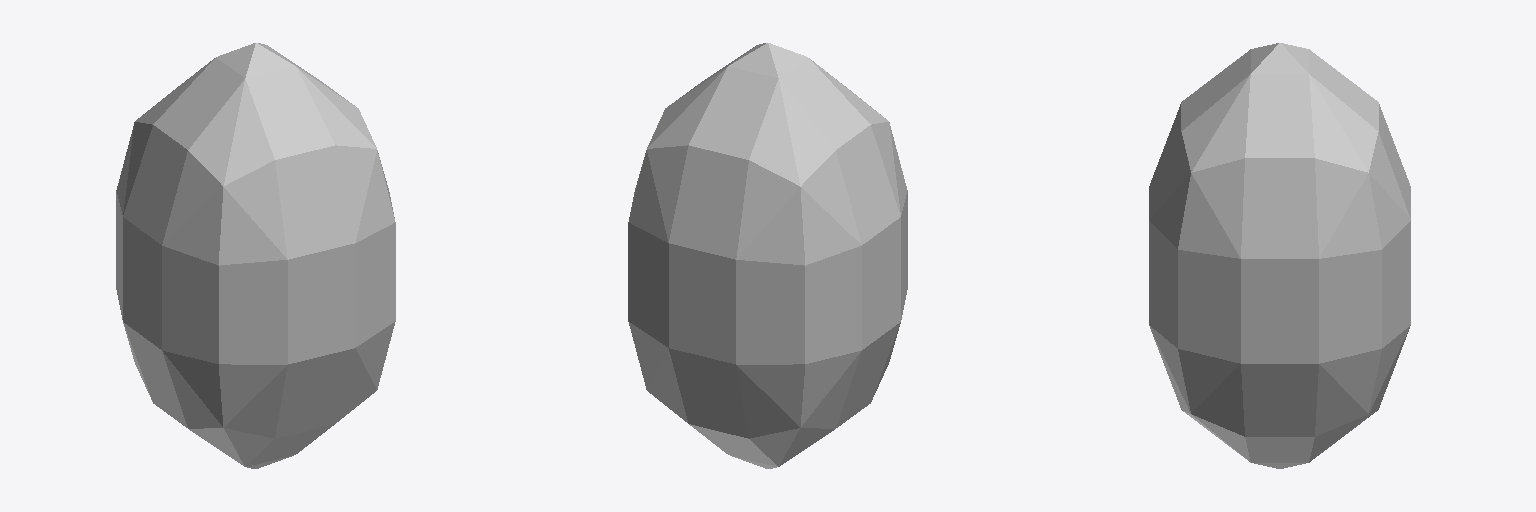
The model's file is teeth_smoothed_60.obj.
3 views of the same model, side by side, from view 1: azimuth 30°, elevation 25°; view 2: azimuth 150°, elevation 25°; view 3: azimuth 270°, elevation 25° (orthographic).
Bounding box in the file's own units: 0.4078 × 0.7328 × 0.4078.